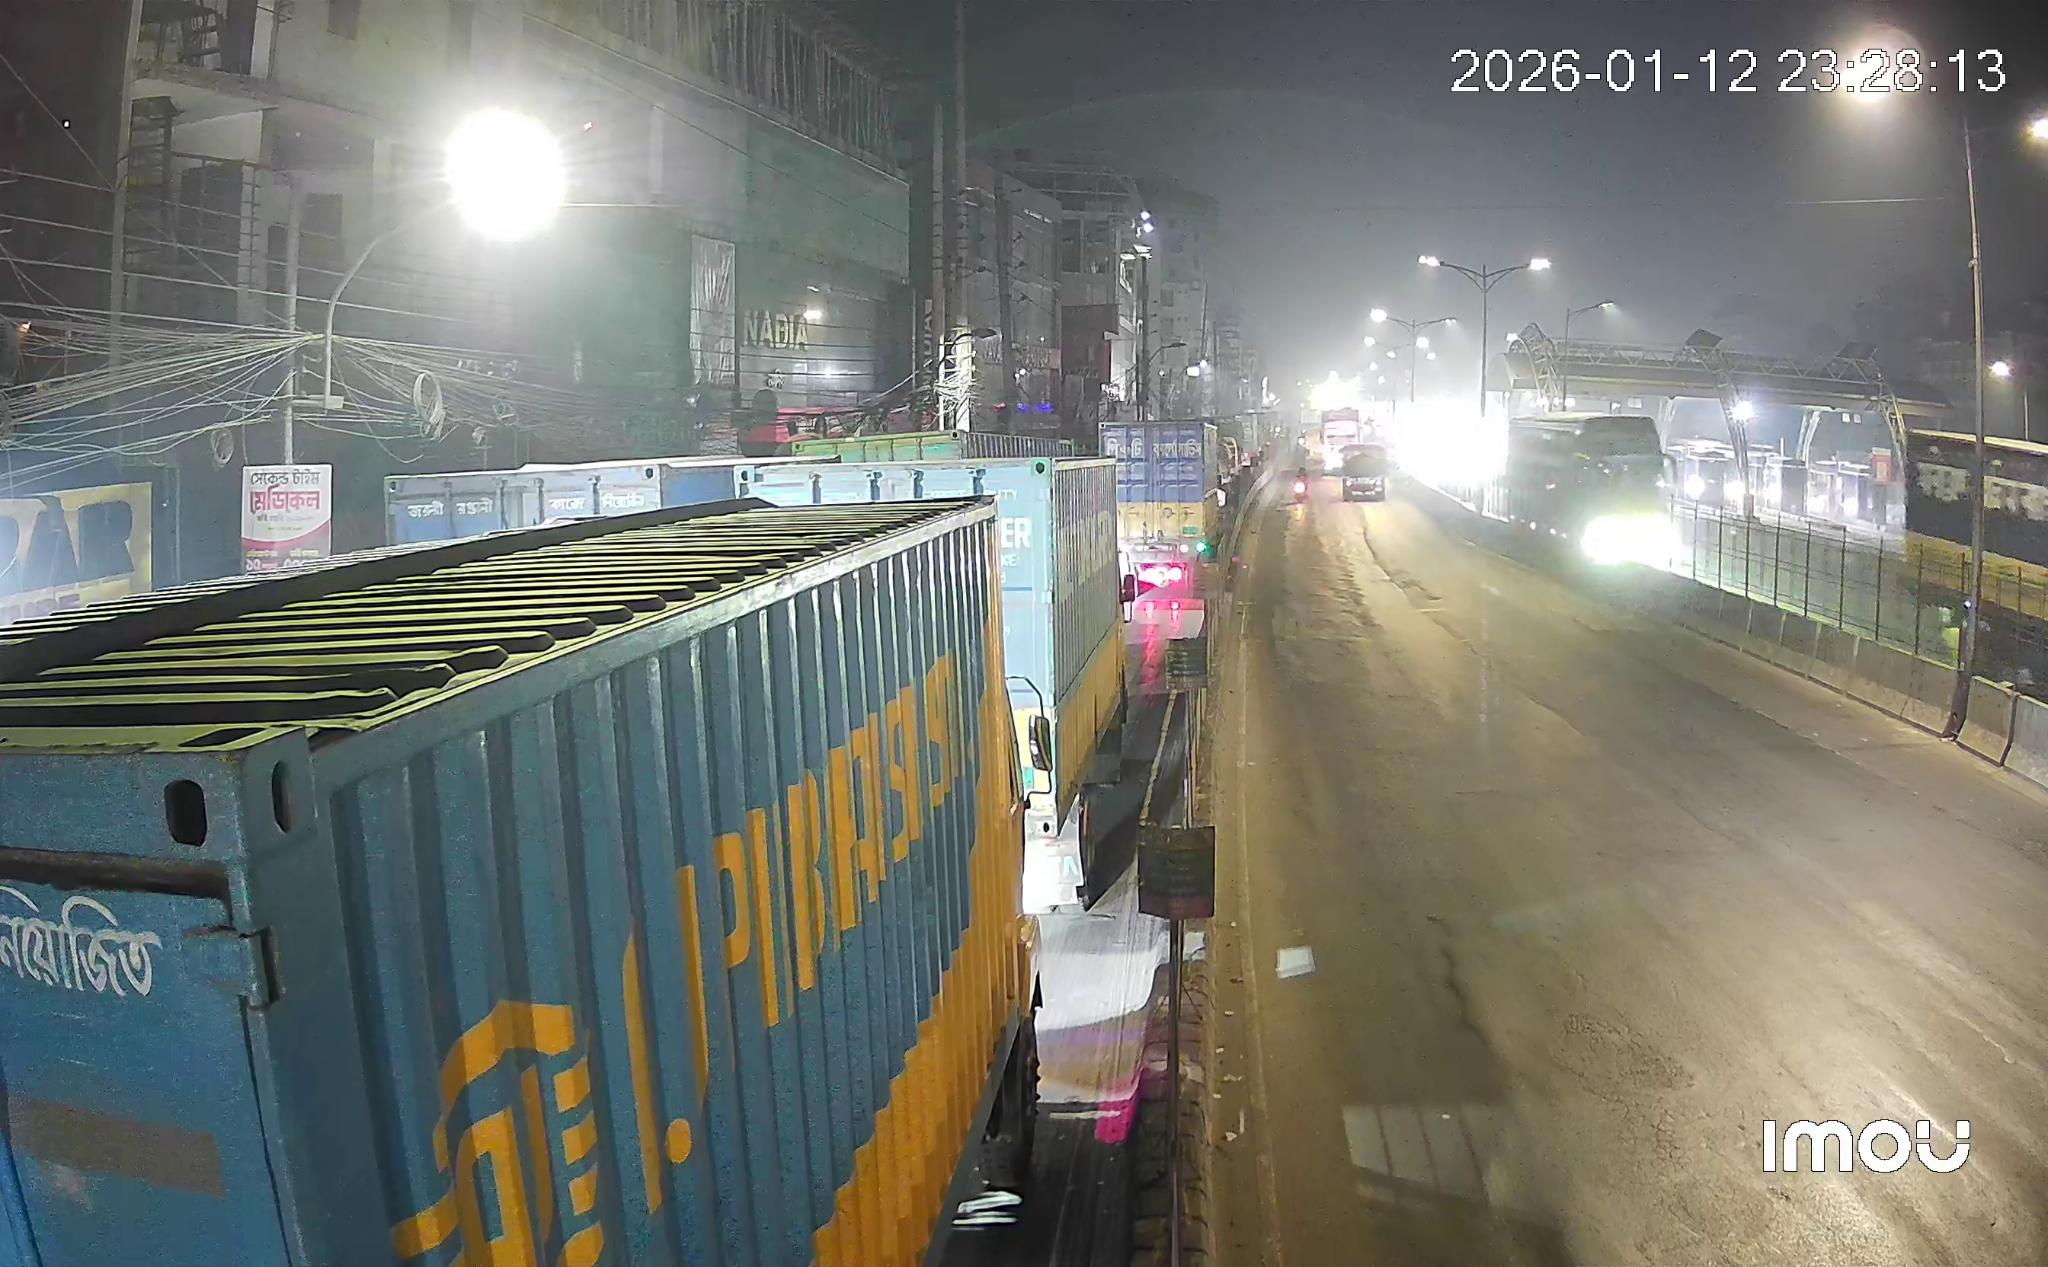Bus: (1482, 414, 1674, 563)
Truck: (0, 495, 1039, 1267), (752, 455, 1129, 911), (1903, 432, 2047, 693), (1102, 418, 1220, 614), (1341, 443, 1388, 499)
